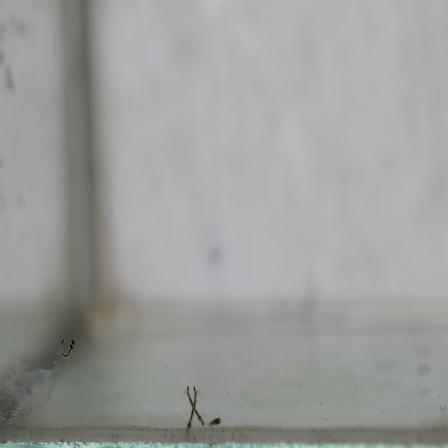Jentik-Nyamuk: (182, 382, 207, 435), (54, 336, 79, 363), (208, 414, 223, 430)
